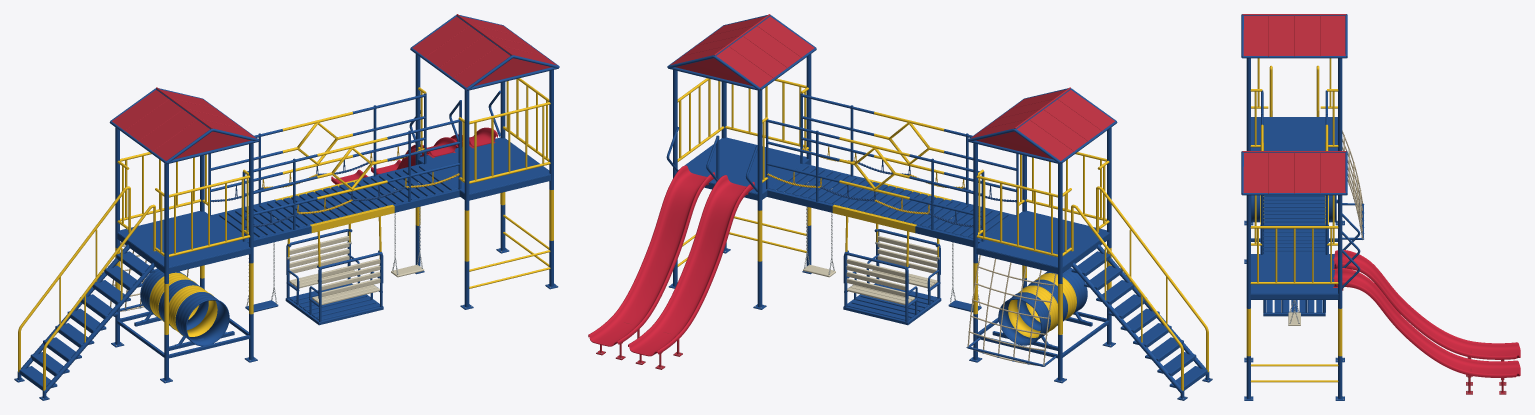
Rendered from jungle_gym.glb.
3 views of the same model, side by side, from view 1: azimuth 30°, elevation 25°; view 2: azimuth 150°, elevation 25°; view 3: azimuth 270°, elevation 25° (orthographic). The views are drawn at different scales.
Parts seen in each view (by area): view 1: Bridge | blue transverse treads, Right roof | folded red panels, Left roof | folded red panels, Left tower | platform and rim beams, Bridge | horizontal blue rails and stanchions, Right tower | platform and rim beams, Stairs | nine folded treads, Glider | pale horizontal bench slats, Right tower | uprights, Left tower | vertical guardrails, Left tower | uprights, Right tower | vertical guardrails (+20 smaller); view 2: Inner slide | moulded open chute, Outer slide | moulded open chute, Bridge | blue transverse treads, Right roof | folded red panels, Left roof | folded red panels, Left tower | platform and rim beams, Bridge | horizontal blue rails and stanchions, Stairs | nine folded treads, Glider | pale horizontal bench slats, Right tower | platform and rim beams, Left tower | vertical guardrails, Right tower | uprights (+20 smaller); view 3: Left roof | folded red panels, Right roof | folded red panels, Right tower | platform and rim beams, Bridge | blue transverse treads, Outer slide | moulded open chute, Inner slide | moulded open chute, Left tower | platform and rim beams, Right tower | uprights, Right tower | vertical guardrails, Left tower | uprights, Glider | carriage and footboard, Left tower | vertical guardrails (+10 smaller).
Part boxes in pixels (bbox=[...]): Bridge | blue transverse treads: bbox=[212, 164, 457, 240]; Right roof | folded red panels: bbox=[412, 16, 556, 89]; Left roof | folded red panels: bbox=[112, 89, 256, 160]; Left tower | platform and rim beams: bbox=[117, 211, 250, 273]; Bridge | horizontal blue rails and stanchions: bbox=[208, 93, 461, 241]; Right tower | platform and rim beams: bbox=[417, 137, 550, 200]; Stairs | nine folded treads: bbox=[19, 251, 155, 390]; Glider | pale horizontal bench slats: bbox=[289, 236, 380, 304]; Right tower | uprights: bbox=[415, 54, 553, 307]; Left tower | vertical guardrails: bbox=[117, 152, 250, 257]; Left tower | uprights: bbox=[115, 127, 253, 380]; Right tower | vertical guardrails: bbox=[418, 78, 550, 183]; Inner slide | moulded open chute: bbox=[628, 175, 754, 356]; Outer slide | moulded open chute: bbox=[588, 165, 715, 346]; Bridge | blue transverse treads: bbox=[769, 164, 1015, 240]; Right roof | folded red panels: bbox=[670, 16, 814, 89]; Left roof | folded red panels: bbox=[970, 89, 1114, 160]; Left tower | platform and rim beams: bbox=[976, 211, 1109, 273]; Bridge | horizontal blue rails and stanchions: bbox=[766, 93, 1018, 241]; Stairs | nine folded treads: bbox=[1071, 251, 1207, 390]; Glider | pale horizontal bench slats: bbox=[846, 236, 937, 304]; Right tower | platform and rim beams: bbox=[685, 137, 809, 200]; Left tower | vertical guardrails: bbox=[976, 152, 1109, 257]; Right tower | uprights: bbox=[673, 54, 811, 307]; Left roof | folded red panels: bbox=[1243, 16, 1345, 55]; Right roof | folded red panels: bbox=[1243, 153, 1345, 192]; Right tower | platform and rim beams: bbox=[1250, 254, 1338, 299]; Bridge | blue transverse treads: bbox=[1263, 195, 1325, 253]; Outer slide | moulded open chute: bbox=[1334, 268, 1520, 377]; Inner slide | moulded open chute: bbox=[1334, 250, 1520, 359]; Left tower | platform and rim beams: bbox=[1251, 117, 1337, 150]; Right tower | uprights: bbox=[1246, 195, 1342, 398]; Right tower | vertical guardrails: bbox=[1250, 195, 1338, 284]; Left tower | uprights: bbox=[1246, 58, 1342, 150]; Glider | carriage and footboard: bbox=[1263, 300, 1325, 316]; Left tower | vertical guardrails: bbox=[1250, 58, 1338, 147].
Size of the model in its own units: 8.91 by 4.14 by 4.58.
